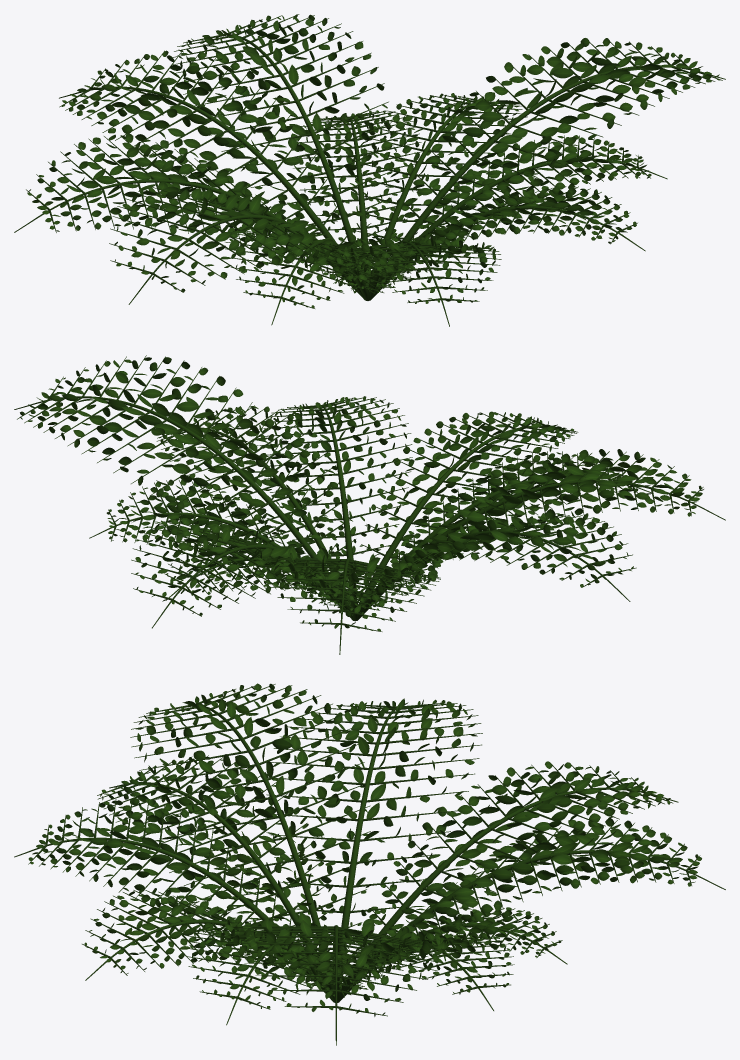
File: fern_large_lod0.gltf
The picture shows the model from 3 angles, top to bottom: view 1: azimuth 30°, elevation 25°; view 2: azimuth 150°, elevation 25°; view 3: azimuth 270°, elevation 25°; orthographic projection. The views are drawn at different scales.
Visible parts, largest first — view 1: fern_large_lod0; view 2: fern_large_lod0; view 3: fern_large_lod0.
Part boxes in pixels (x1,y1,x2,y2): fern_large_lod0: (14,14,725,326); fern_large_lod0: (14,355,725,654); fern_large_lod0: (14,683,725,1045).
Size of the model in its own units: 1.8 by 0.4615 by 1.56.
1 material, 1 textured.
